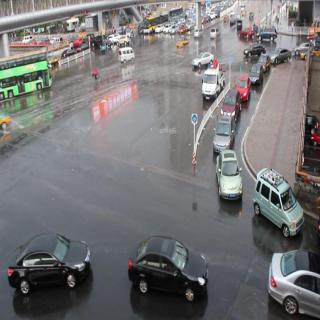BigCar: (0, 55, 56, 106)
Car: (126, 233, 205, 311), (2, 233, 92, 287), (255, 160, 303, 231), (205, 144, 249, 204), (193, 65, 222, 96), (218, 108, 233, 152), (119, 46, 140, 68)
